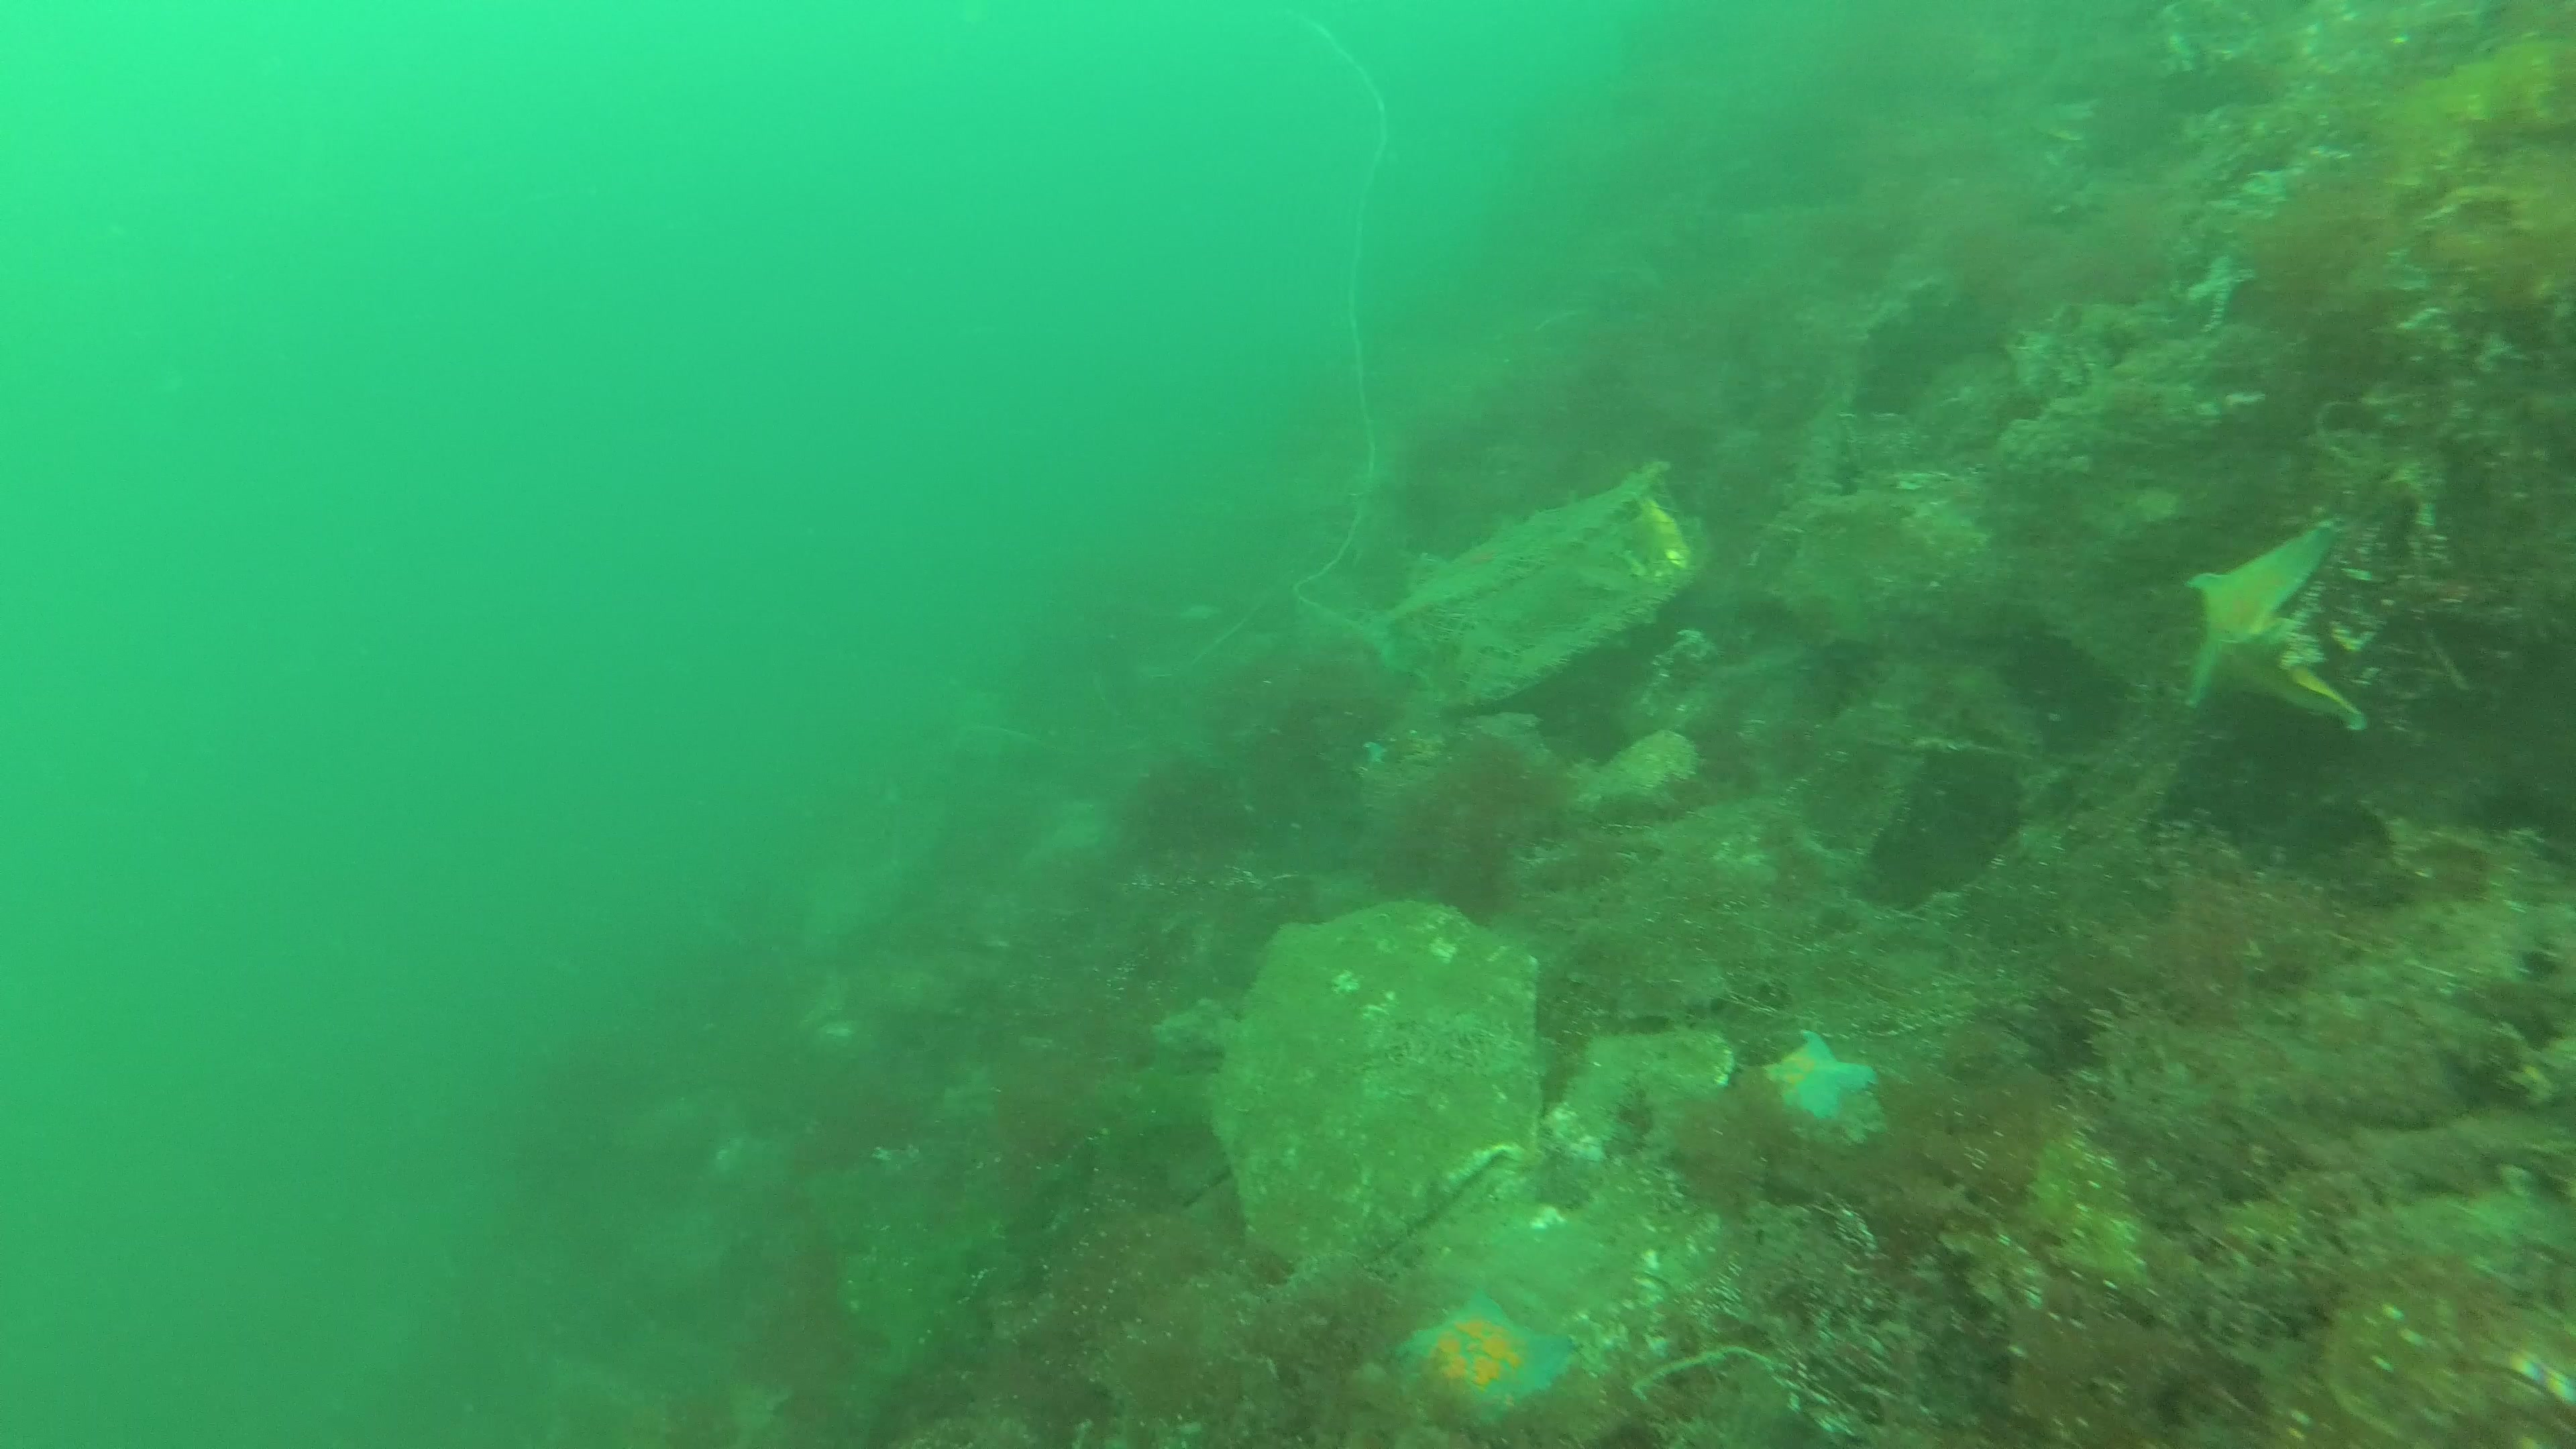starfish: (2192, 522, 2337, 708), (1394, 1288, 1578, 1428), (1764, 1028, 1867, 1125)
